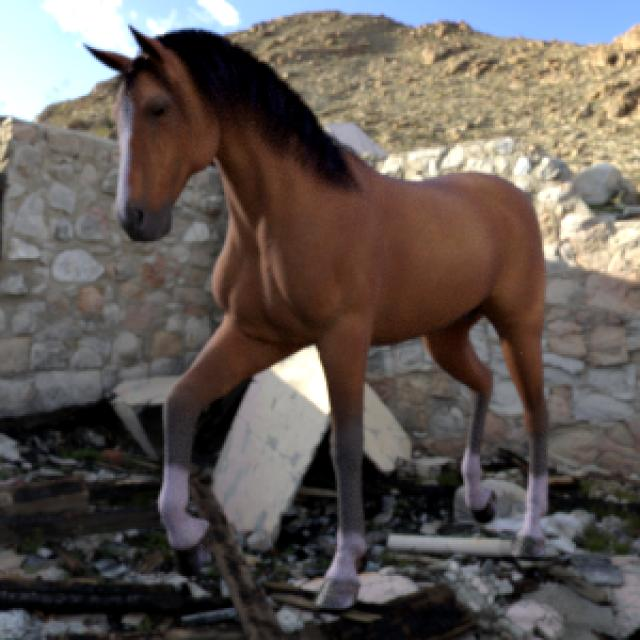horse: (90, 30, 545, 608)
